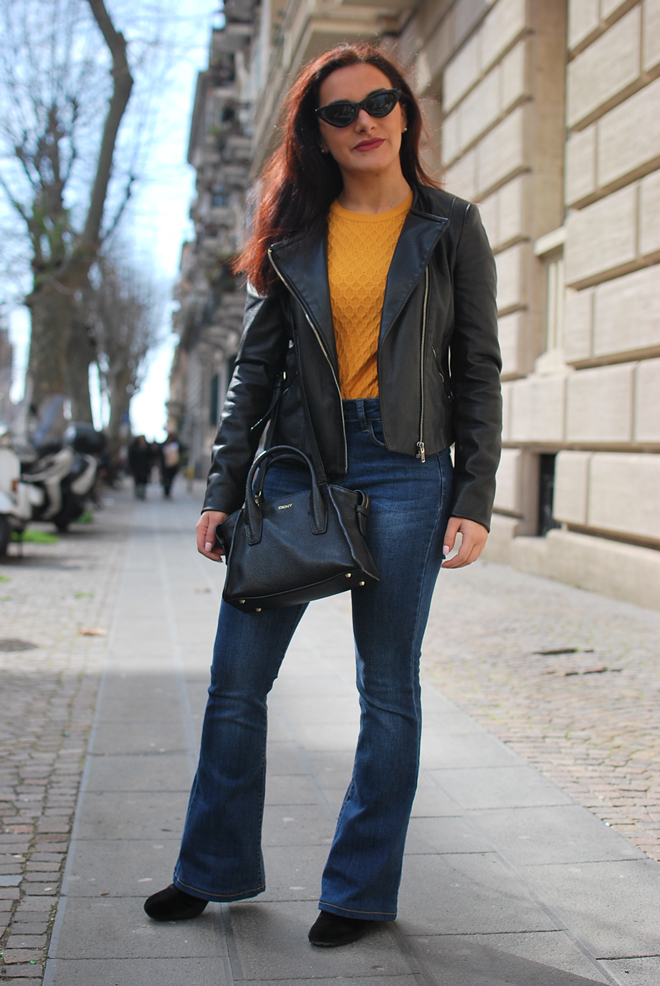jeans: (196, 400, 455, 907)
sunglasses: (304, 90, 413, 138)
